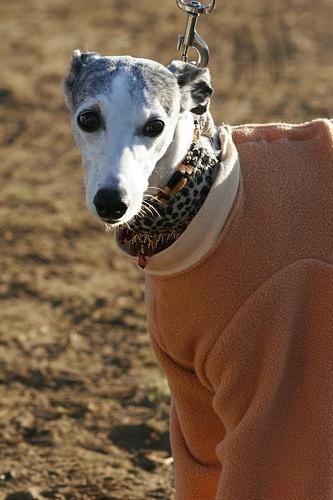dog: (64, 48, 333, 500)
